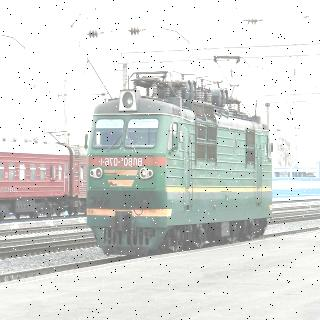poezd: (92, 82, 273, 252)
